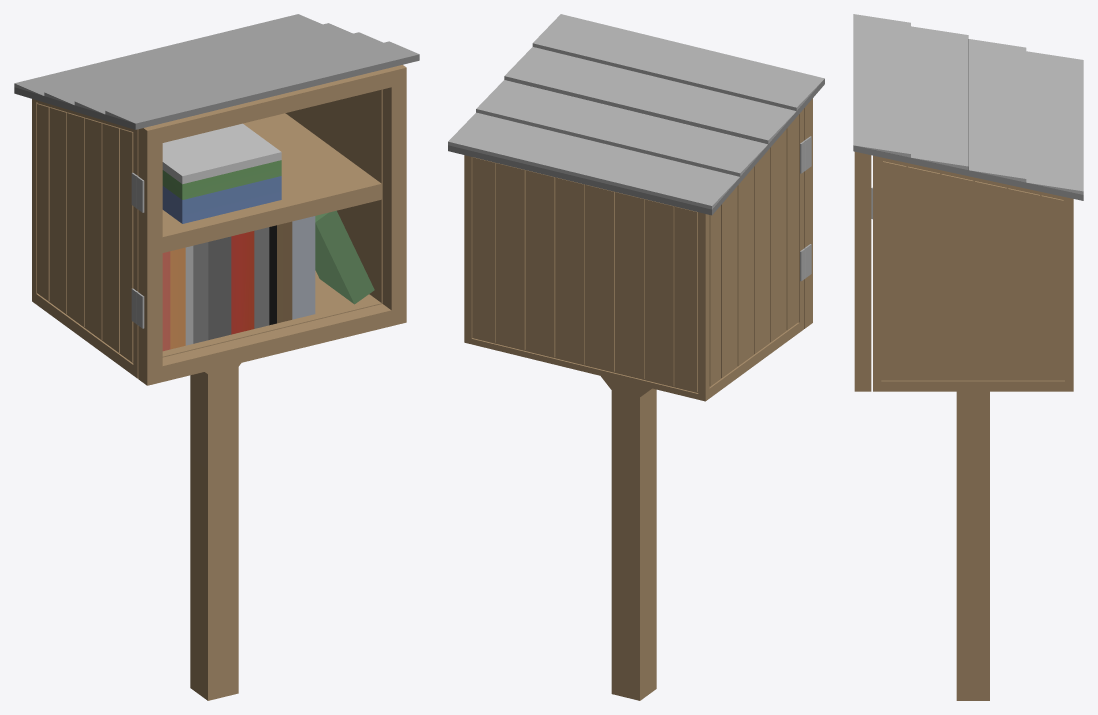
The model's file is lending-library.glb.
The picture shows the model from 3 angles, left to right: view 1: azimuth 30°, elevation 25°; view 2: azimuth 150°, elevation 25°; view 3: azimuth 270°, elevation 25°; orthographic projection. The views are drawn at different scales.
Visible parts, largest first — view 1: lending-library; view 2: lending-library; view 3: lending-library.
Boxes of the visible parts, box(x1,y1,x2,y2) form: lending-library: box(14, 14, 419, 700); lending-library: box(448, 14, 824, 700); lending-library: box(853, 14, 1083, 700).
Size of the model in its own units: 0.7019 by 1.53 by 0.5193.
Materials: 1 (1 with a texture image).
